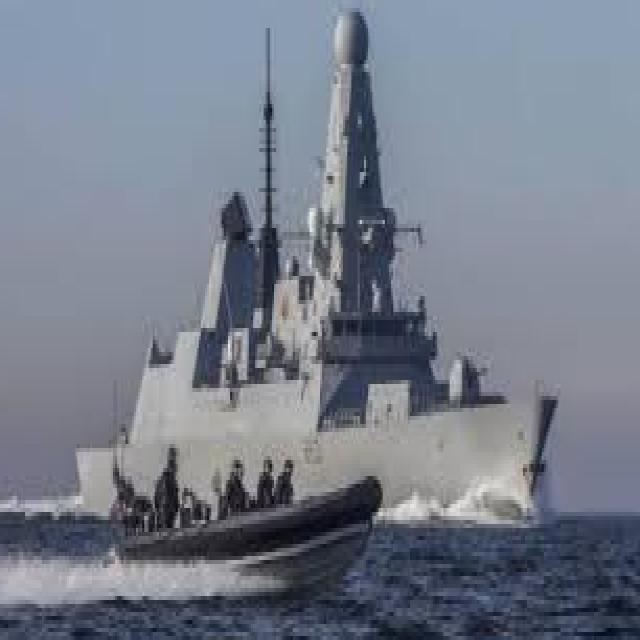navalvessels: (67, 0, 552, 548)
